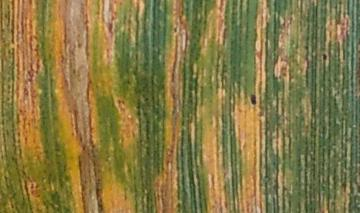tarspot: (248, 93, 258, 106), (320, 52, 329, 61), (356, 183, 360, 195)
